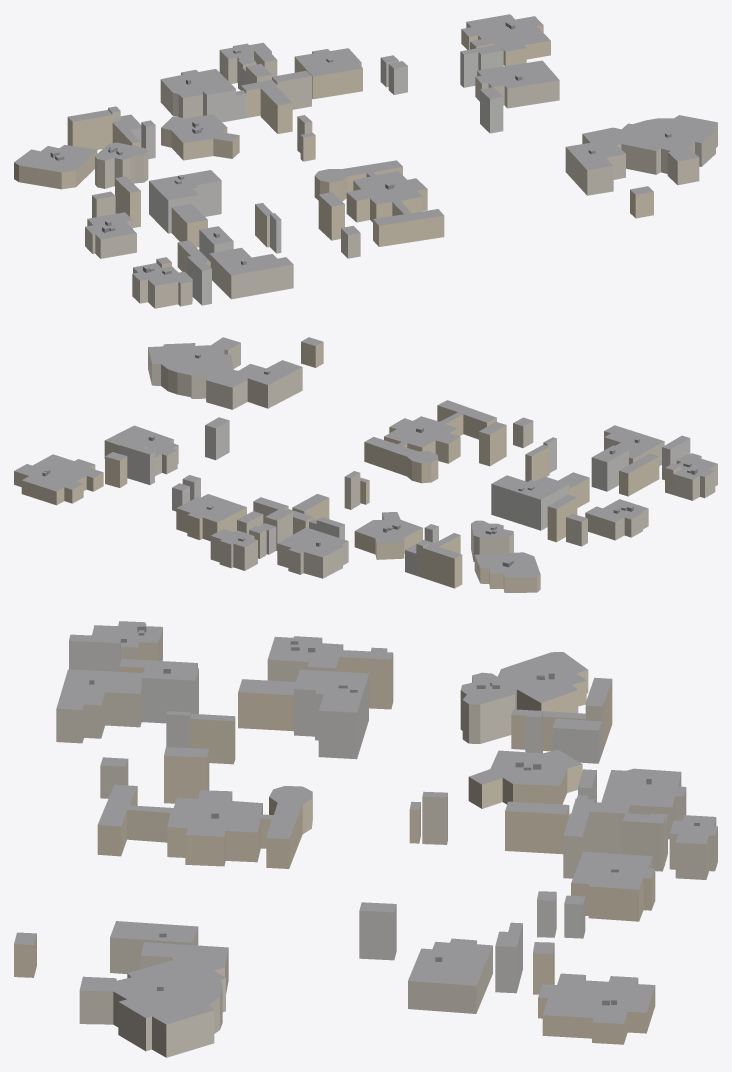
File: building_3_-1.glb
3 views of the same model, one above another, from view 1: azimuth 30°, elevation 25°; view 2: azimuth 150°, elevation 25°; view 3: azimuth 270°, elevation 25° (orthographic). The views are drawn at different scales.
Parts seen in each view (by area): view 1: roof, sandstone, concrete_warm, concrete_light; view 2: roof, sandstone, concrete_warm, concrete_light; view 3: roof, sandstone, concrete_warm, concrete_light.
Part boxes in pixels (x1,y1,x2,y2): roof: (14, 14, 717, 285); sandstone: (14, 22, 653, 273); concrete_warm: (85, 46, 717, 308); concrete_light: (130, 50, 503, 305); roof: (14, 337, 717, 577); sandstone: (14, 341, 680, 592); concrete_warm: (104, 343, 717, 578); concrete_light: (119, 421, 690, 575); roof: (14, 621, 717, 1024); sandstone: (14, 638, 655, 1044); concrete_warm: (56, 623, 717, 1057); concrete_light: (69, 638, 601, 993).
Bounding box in the file's own units: 270 × 15.56 × 198.
